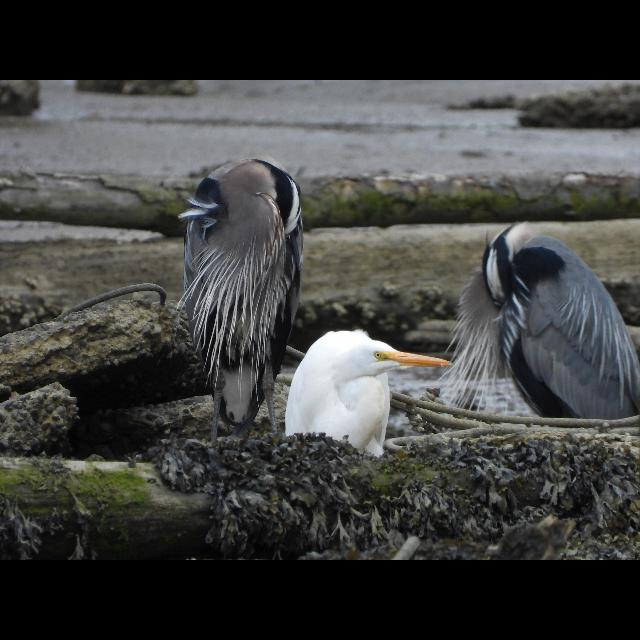egret: (282, 322, 462, 462)
